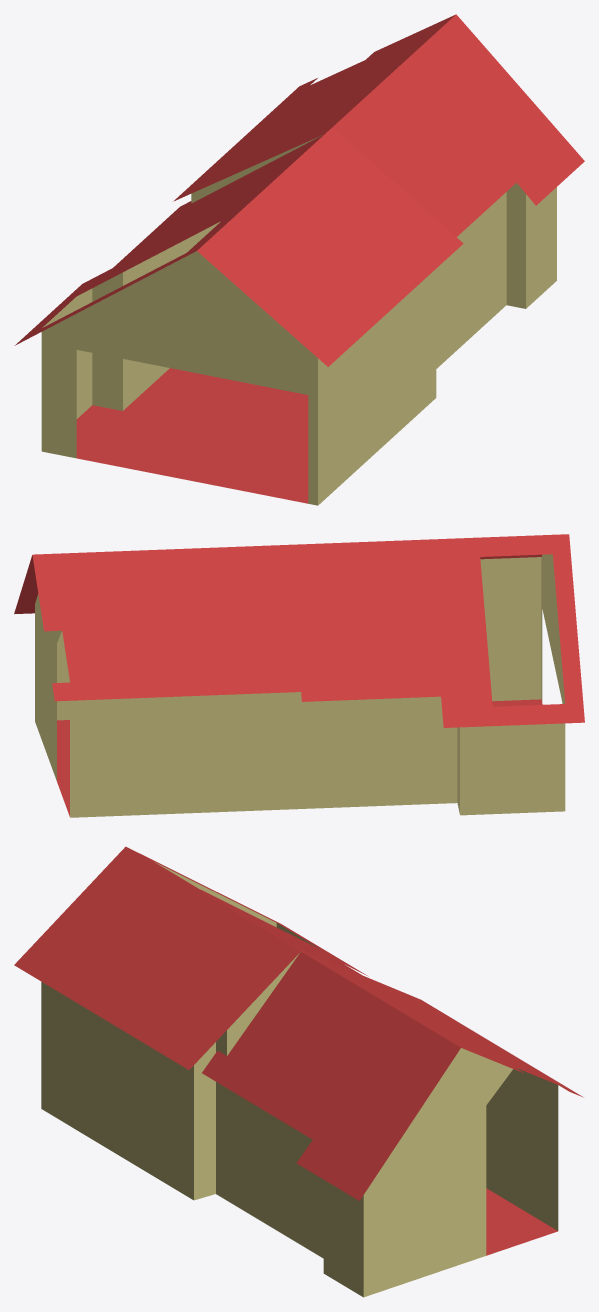
3 views of the same model, one above another, from view 1: azimuth 30°, elevation 25°; view 2: azimuth 150°, elevation 25°; view 3: azimuth 270°, elevation 25° (orthographic). The views are drawn at different scales.
Bounding box in the file's own units: 34.08 × 29.15 × 12.8.
